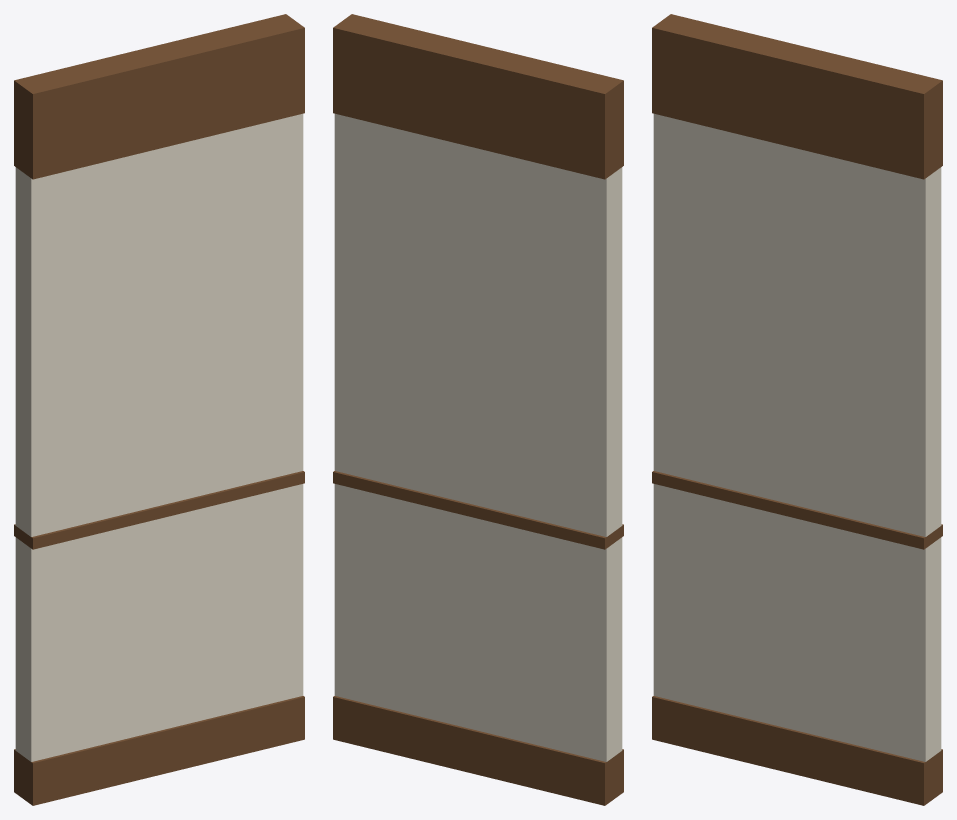
File: sakura_wall_plain_1m.glb
3 renders of one model, left to right at view 1: azimuth 30°, elevation 25°; view 2: azimuth 150°, elevation 25°; view 3: azimuth 330°, elevation 25°, orthographic.
Visible parts, largest first — view 1: sakura_wall_plain_1m; view 2: sakura_wall_plain_1m; view 3: sakura_wall_plain_1m.
Part boxes in pixels (x1,y1,x2,y2): sakura_wall_plain_1m: (14, 14, 304, 805); sakura_wall_plain_1m: (333, 14, 623, 805); sakura_wall_plain_1m: (652, 14, 942, 805).
Bounding box in the file's own units: 1 × 2.5 × 0.12.
1 material, 1 textured.
